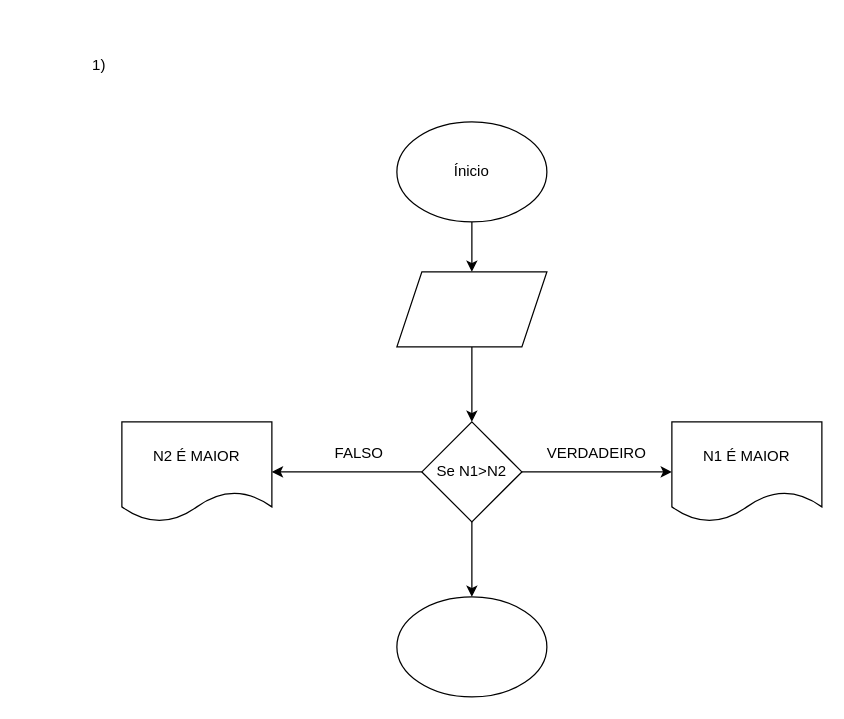
Image size: 844x719. Some labels were removed from this diagram. Each missing label, with the centre of its shape:
FIM: (471,646)
N1, N2: (471,309)
